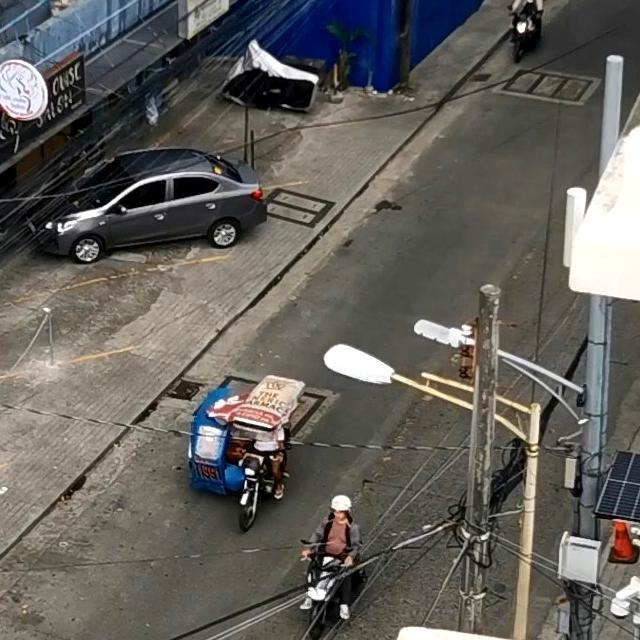Motorcycle: (271, 488, 388, 640), (500, 0, 552, 75)
